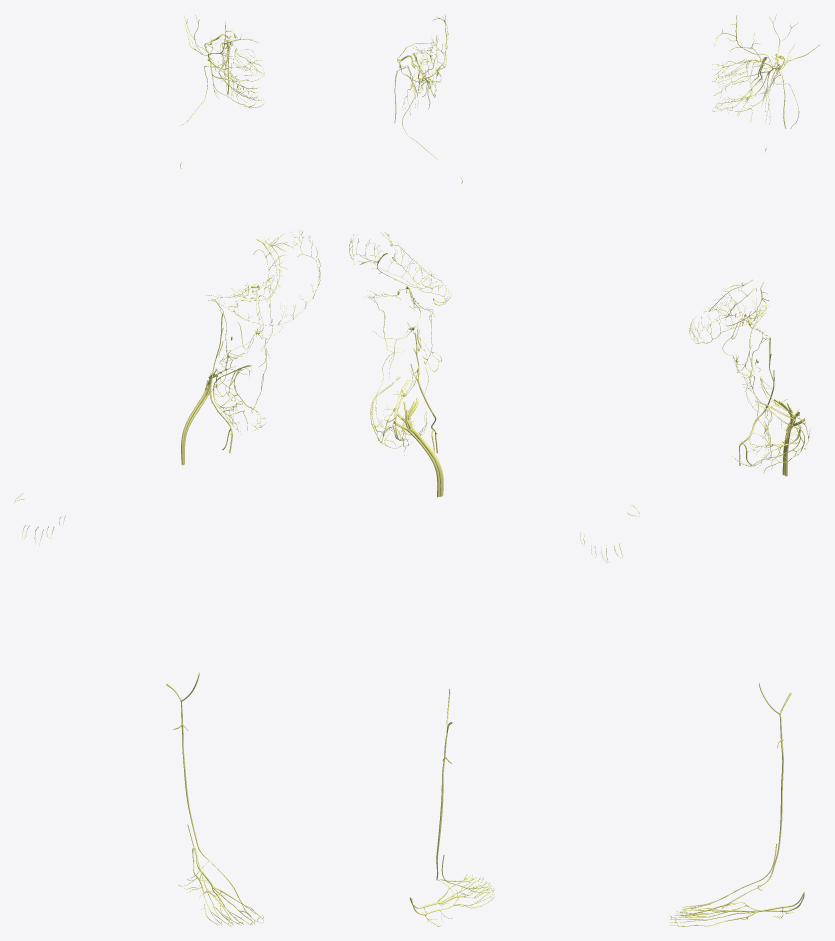
The model's file is nervous-04.glb.
3 views of the same model, side by side, from view 1: azimuth 30°, elevation 25°; view 2: azimuth 150°, elevation 25°; view 3: azimuth 270°, elevation 25° (orthographic). The views are drawn at different scales.
Visible parts, largest first — view 1: no part large enough to name; view 2: no part large enough to name; view 3: ATLAS_Ner_M4028, ATLAS_Ner_M2130, ATLAS_Ner_M4030.
Boxes of the visible parts, x1,y1,x2,y2 form: ATLAS_Ner_M4028: (701,683,791,912); ATLAS_Ner_M2130: (689,298,763,343); ATLAS_Ner_M4030: (704,893,803,926).
Size of the model in its own units: 2.29 by 6.64 by 1.01.
